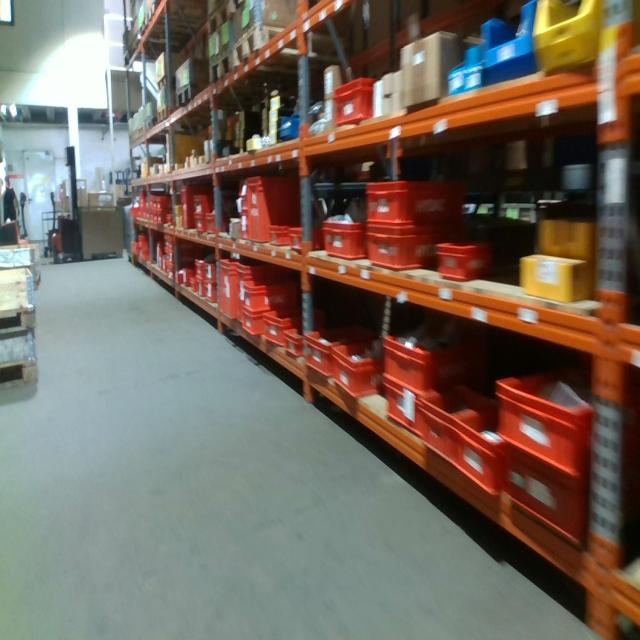pallet: (233, 21, 352, 70), (1, 300, 40, 343), (0, 356, 36, 398), (174, 82, 210, 114), (209, 47, 234, 87), (206, 3, 230, 34), (144, 4, 162, 32), (230, 1, 263, 15), (154, 104, 170, 131), (137, 18, 148, 47), (158, 76, 175, 94)
pallet_truck: (48, 137, 80, 267), (0, 183, 34, 250), (42, 188, 57, 257)
small_load_carrier: (495, 374, 597, 481), (499, 443, 589, 551), (383, 327, 470, 394), (248, 172, 320, 250), (456, 398, 505, 501), (418, 380, 475, 468), (365, 182, 451, 228), (367, 225, 440, 271), (236, 259, 286, 324), (436, 229, 489, 290), (335, 344, 386, 402), (381, 380, 426, 444), (238, 275, 296, 315), (323, 215, 366, 261), (334, 77, 373, 125), (303, 329, 341, 378), (218, 256, 240, 319), (262, 303, 294, 346), (284, 321, 312, 357), (240, 308, 271, 338), (289, 218, 310, 256), (180, 187, 198, 230), (268, 222, 292, 247), (203, 210, 229, 229), (238, 214, 253, 242), (237, 175, 254, 194), (237, 194, 253, 213), (205, 282, 219, 302), (194, 188, 206, 211), (193, 214, 208, 231), (206, 262, 219, 279), (183, 265, 192, 286), (194, 259, 203, 279), (193, 279, 201, 301), (199, 279, 203, 297)
